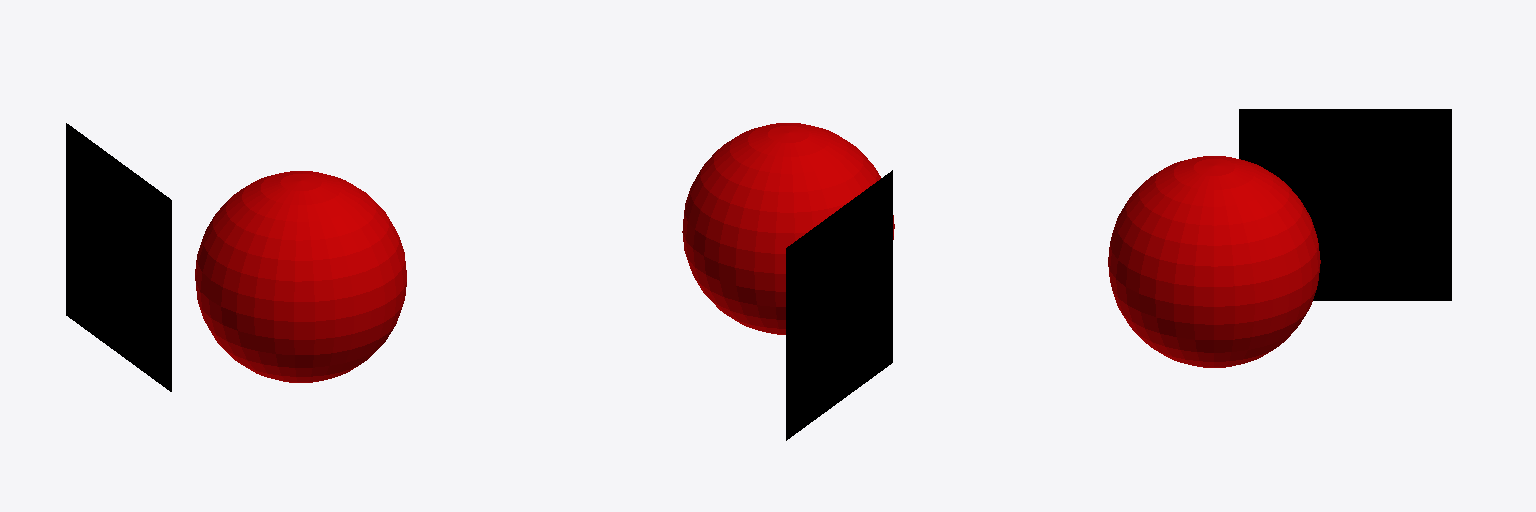
Rendered from triangle.obj.
The picture shows the model from 3 angles: view 1: azimuth 30°, elevation 25°; view 2: azimuth 150°, elevation 25°; view 3: azimuth 270°, elevation 25°; orthographic projection.
Parts seen in each view (by area): view 1: Sphere, Plane; view 2: Sphere, Plane; view 3: Sphere, Plane.
Boxes of the visible parts, box(x1,y1,x2,y2) form: Sphere: box(195, 171, 406, 382); Plane: box(66, 123, 171, 391); Sphere: box(682, 123, 894, 334); Plane: box(786, 170, 892, 440); Sphere: box(1108, 156, 1320, 367); Plane: box(1239, 109, 1451, 300).
Bounding box in the file's own units: 2.27 × 2 × 3.23.